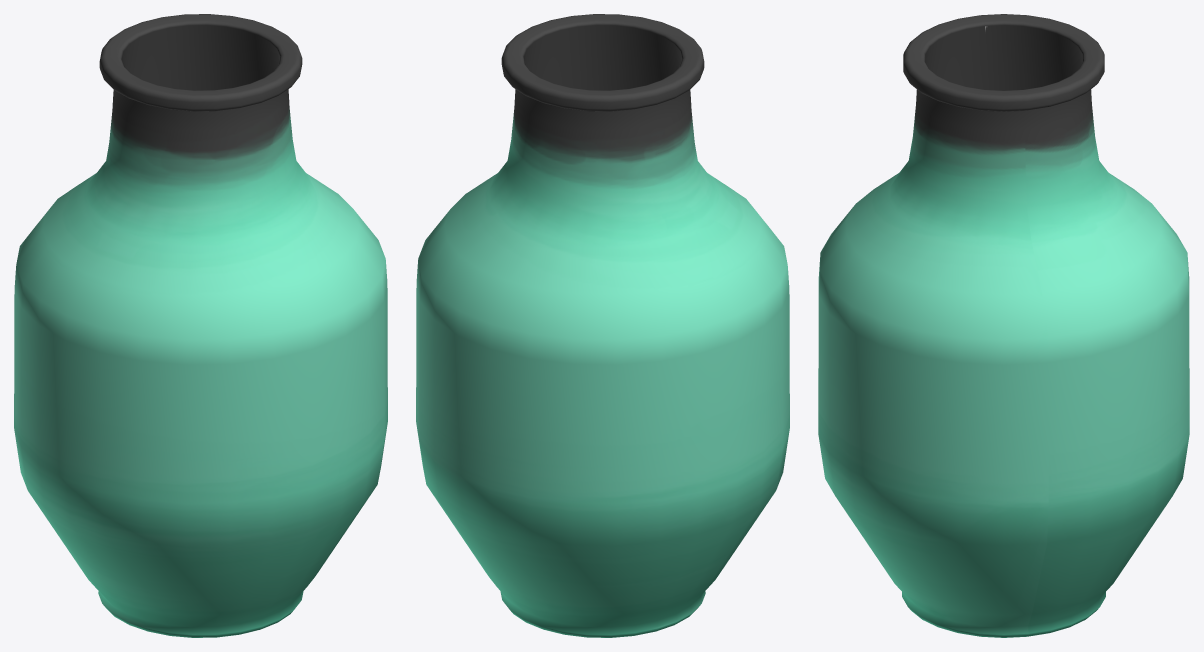
Rendered from Pot02.fbx.
3 views of the same model, side by side, from view 1: azimuth 30°, elevation 25°; view 2: azimuth 150°, elevation 25°; view 3: azimuth 270°, elevation 25° (orthographic).
Parts seen in each view (by area): view 1: pCylinder2; view 2: pCylinder2; view 3: pCylinder2.
Part boxes in pixels (left/top/right/bottom): pCylinder2: left=14, top=14, right=387, bottom=637; pCylinder2: left=416, top=14, right=789, bottom=637; pCylinder2: left=818, top=14, right=1189, bottom=637.
Size of the model in its own units: 0.4764 by 0.7626 by 0.4729.
